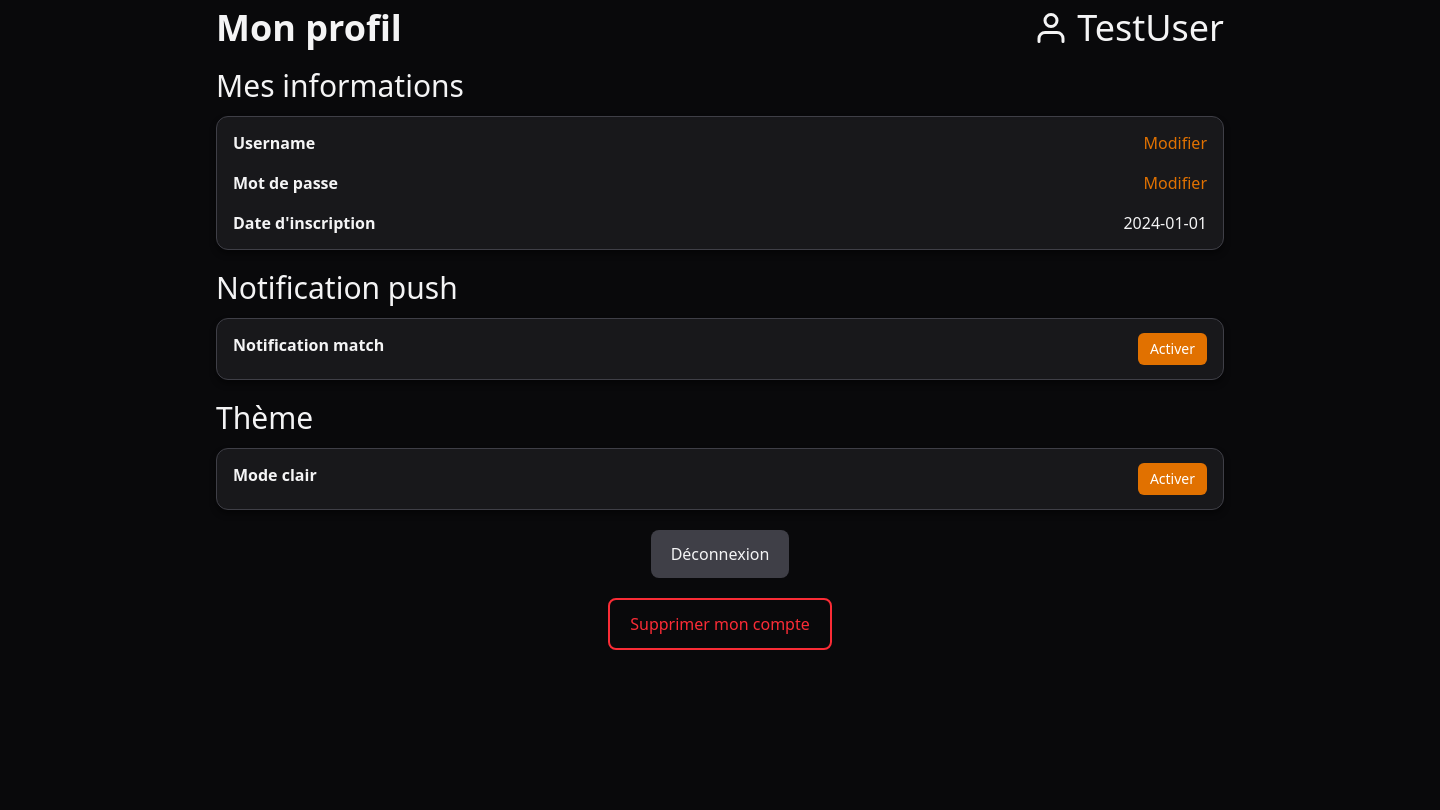
Test: ProfilePage › opens the password modal when clicking Modifier for password
Click the button "Modifier" in the row of "Mot de passe" at (1175, 183), box [1144,171,1207,195]
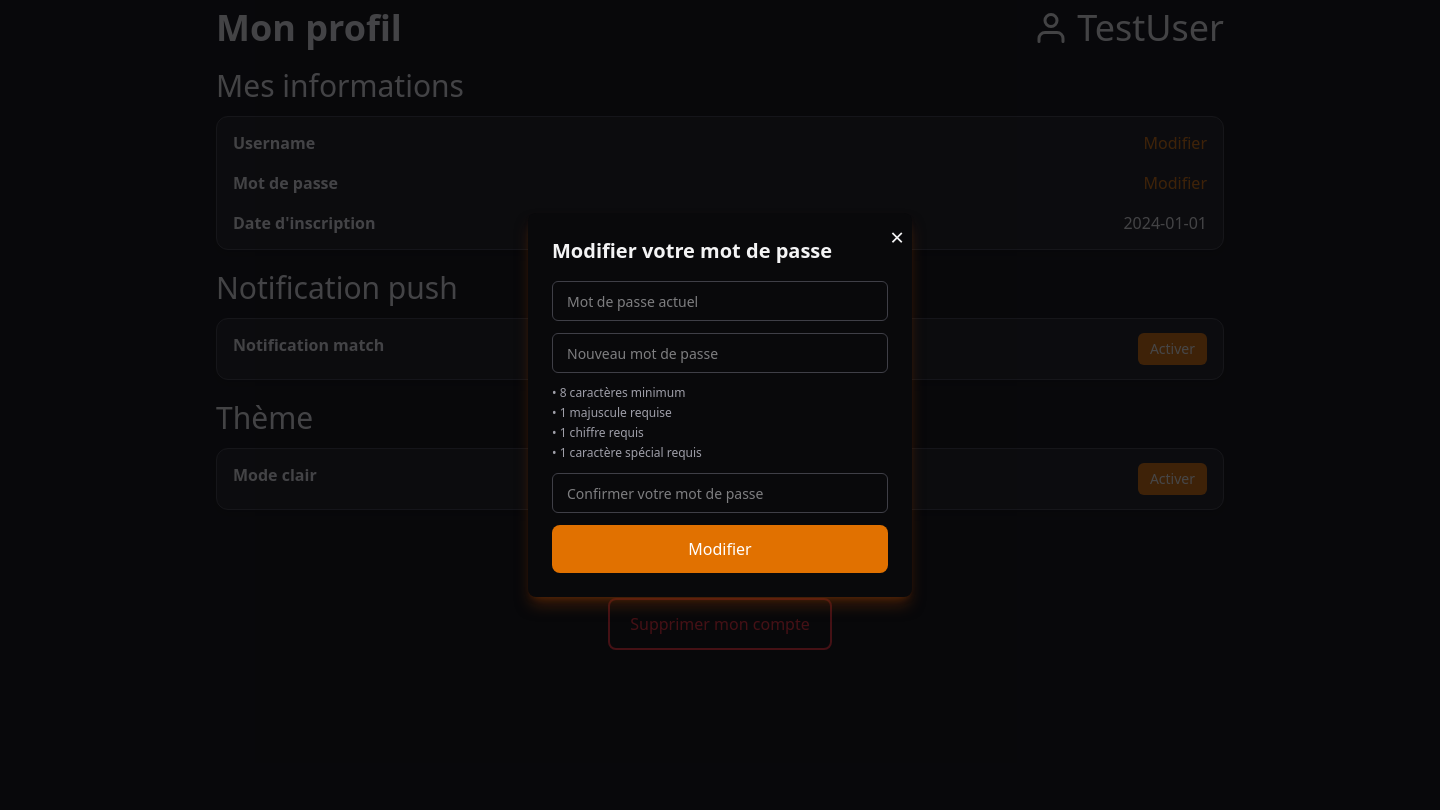
Expected: the heading "Modifier votre mot de passe" is shown, [552,237,832,264]
